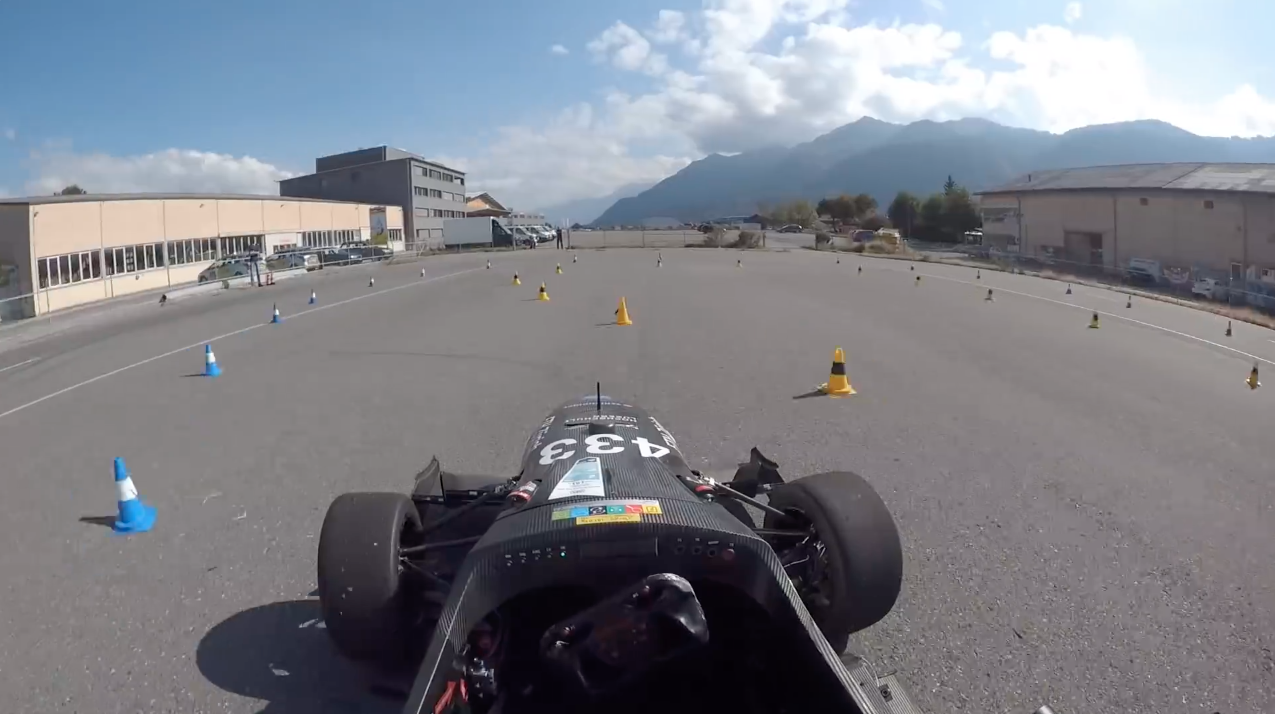lcone: (103, 457, 162, 537), (197, 338, 228, 380), (268, 300, 285, 325)
rcone: (814, 338, 861, 400), (610, 293, 639, 330), (533, 280, 554, 305)
